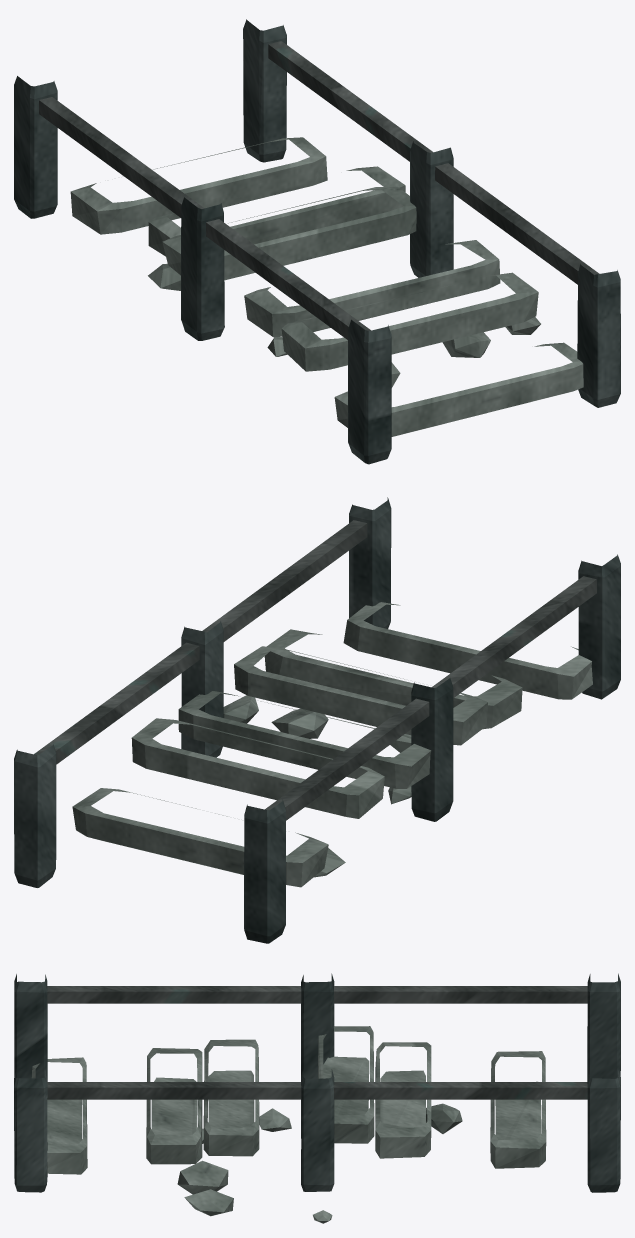
File: 0394_ruined_bridge_19.glb
3 renders of one model, top to bottom at view 1: azimuth 30°, elevation 25°; view 2: azimuth 150°, elevation 25°; view 3: azimuth 270°, elevation 25°, orthographic. The views are drawn at different scales.
Visible parts, largest first — view 1: stone, stone_dark, iron; view 2: stone, stone_dark, iron; view 3: stone, stone_dark, iron.
Part boxes in pixels (x1,y1,x2,y2): stone: (70,137,583,436); stone_dark: (14,19,620,464); iron: (39,41,599,339); stone: (72,602,592,887); stone_dark: (14,497,620,943); iron: (34,520,596,820); stone: (31,1026,546,1223); stone_dark: (14,973,620,1192); iron: (47,986,587,1099).
Bounding box in the file's own units: 2.23 × 1.12 × 4.58.
3 materials, 3 textured.
